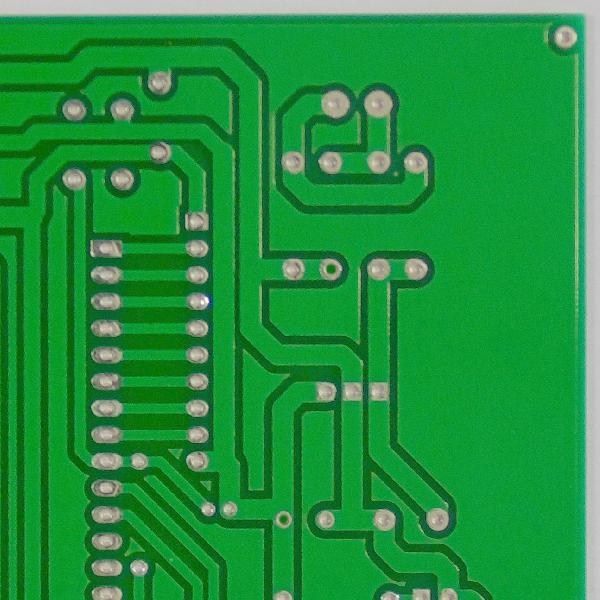missing_hole: (318, 254, 345, 283), (274, 507, 295, 532)
